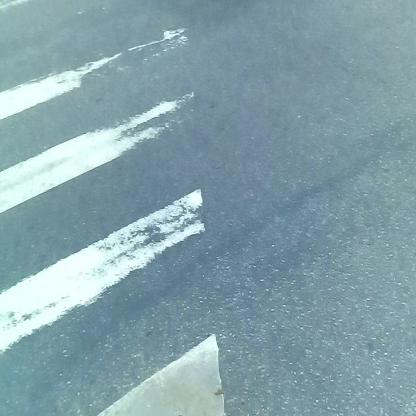crosswalk: (1, 54, 238, 402)
